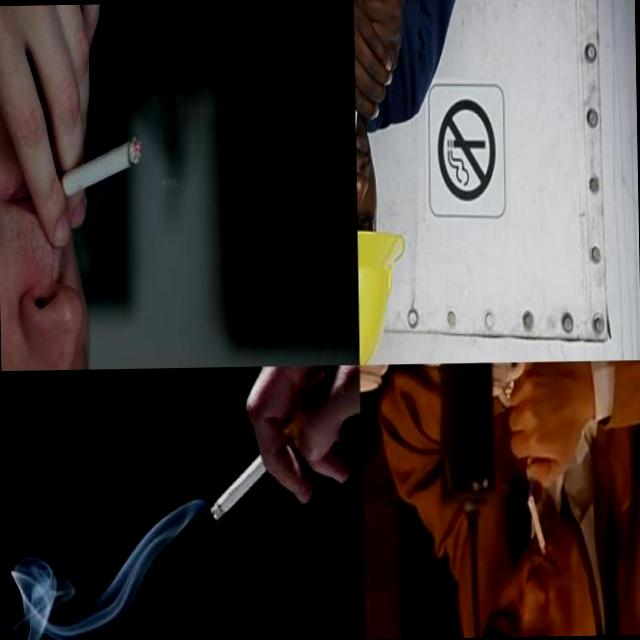smoke: (208, 414, 306, 520), (30, 134, 142, 210), (524, 494, 552, 562)
